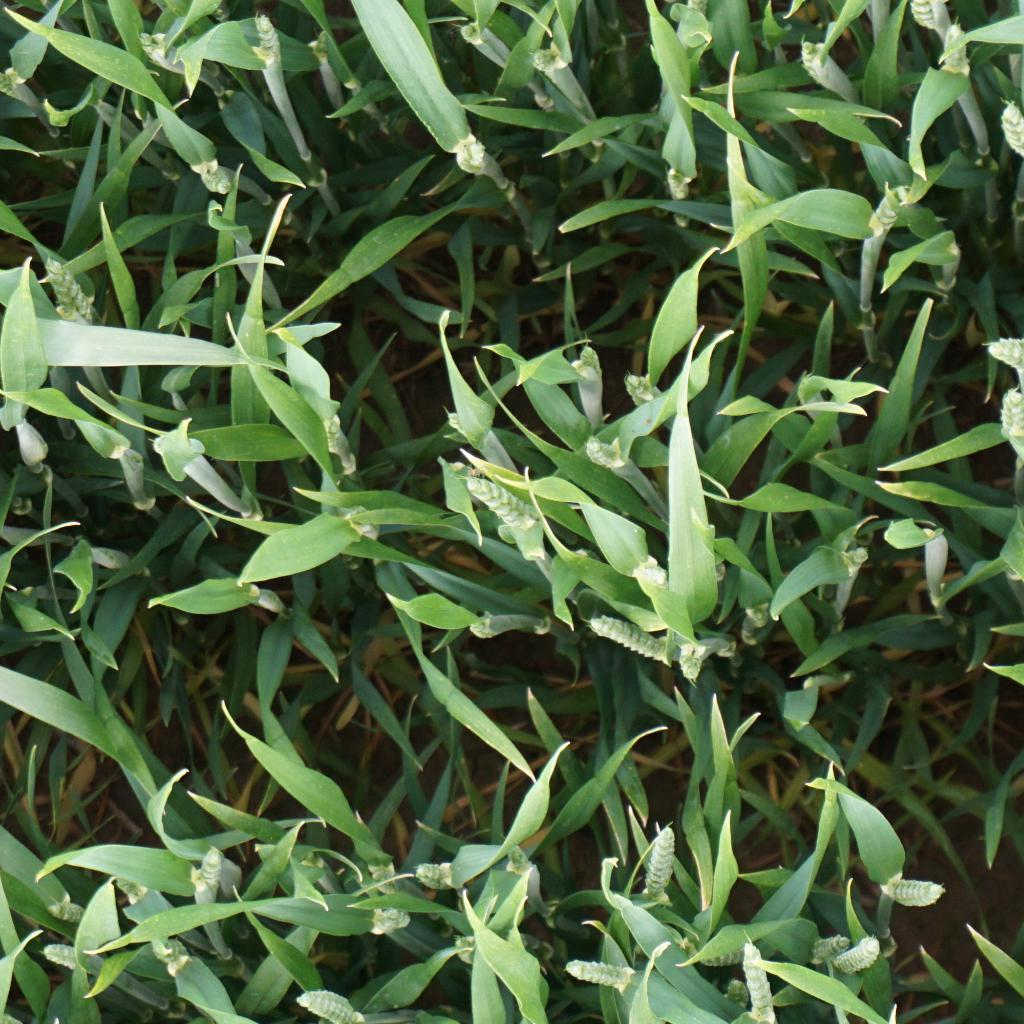0-0: (434, 461, 547, 537), (573, 603, 694, 671), (23, 244, 102, 348), (119, 20, 232, 86), (773, 34, 860, 112), (722, 932, 792, 1024), (925, 15, 1001, 98), (129, 923, 210, 989), (90, 872, 182, 922), (185, 835, 235, 926), (280, 979, 381, 1024), (638, 819, 690, 906), (606, 360, 675, 421), (35, 933, 124, 980), (242, 8, 291, 93), (644, 152, 713, 212), (569, 422, 641, 479), (179, 145, 253, 200), (656, 640, 735, 686), (867, 178, 923, 242), (560, 951, 638, 996), (689, 941, 802, 972), (822, 923, 888, 975), (566, 342, 612, 412), (873, 870, 949, 912), (0, 57, 49, 118), (344, 897, 418, 937), (504, 37, 586, 73), (395, 854, 459, 896), (41, 890, 111, 928), (887, 0, 971, 31), (796, 931, 861, 970), (306, 410, 354, 461), (987, 96, 1024, 160), (971, 329, 1024, 371), (993, 387, 1024, 457), (503, 834, 543, 886)
